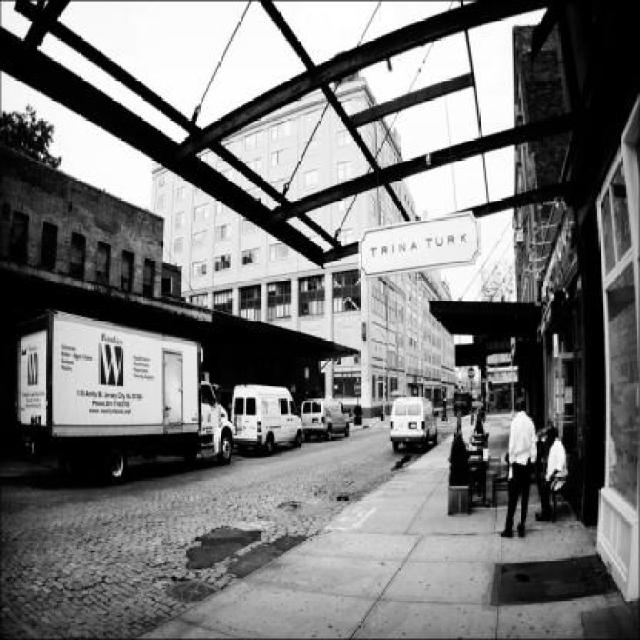Truck: (12, 307, 230, 484)
